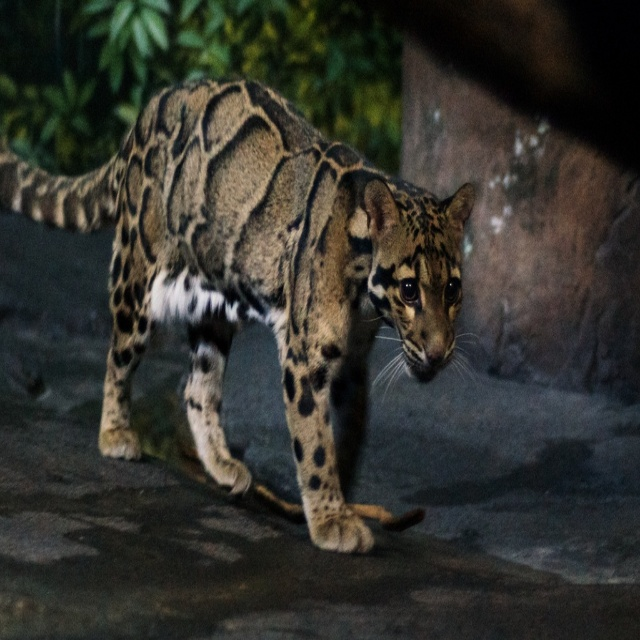Leopard: (0, 83, 478, 551)
